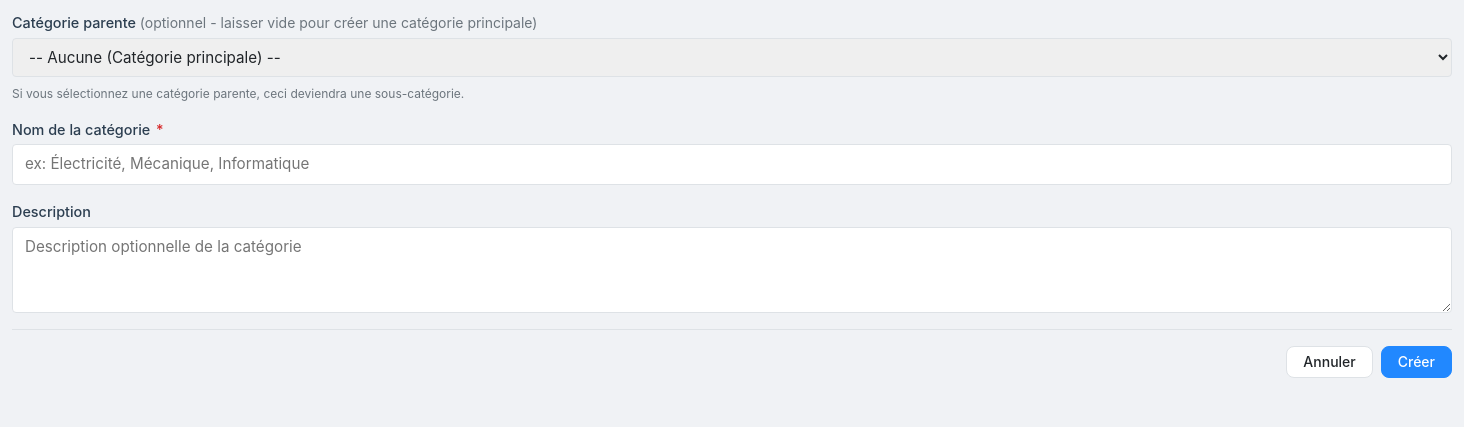
Test case: CategorieForm › efface l'erreur quand on commence à taper
Click the button "Créer" at (1416, 362), box x1=1381 y1=346 x2=1452 y2=378
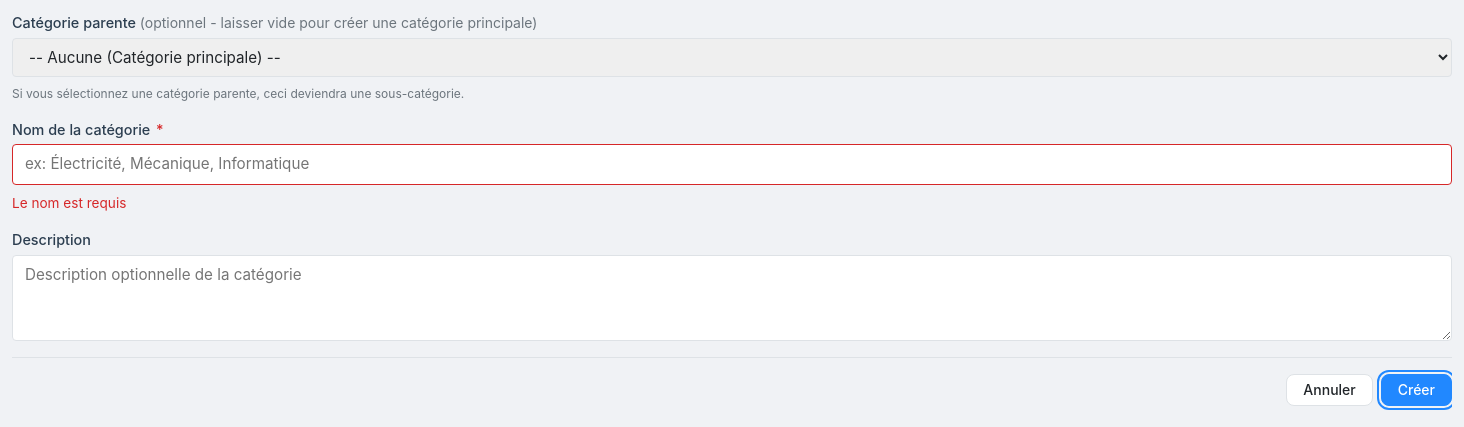
Check: the text "Le nom est requis" is shown, box x1=12 y1=195 x2=126 y2=211
Type "Test" into the field labelled "Nom de la catégorie *" at (732, 165), box x1=12 y1=144 x2=1452 y2=185
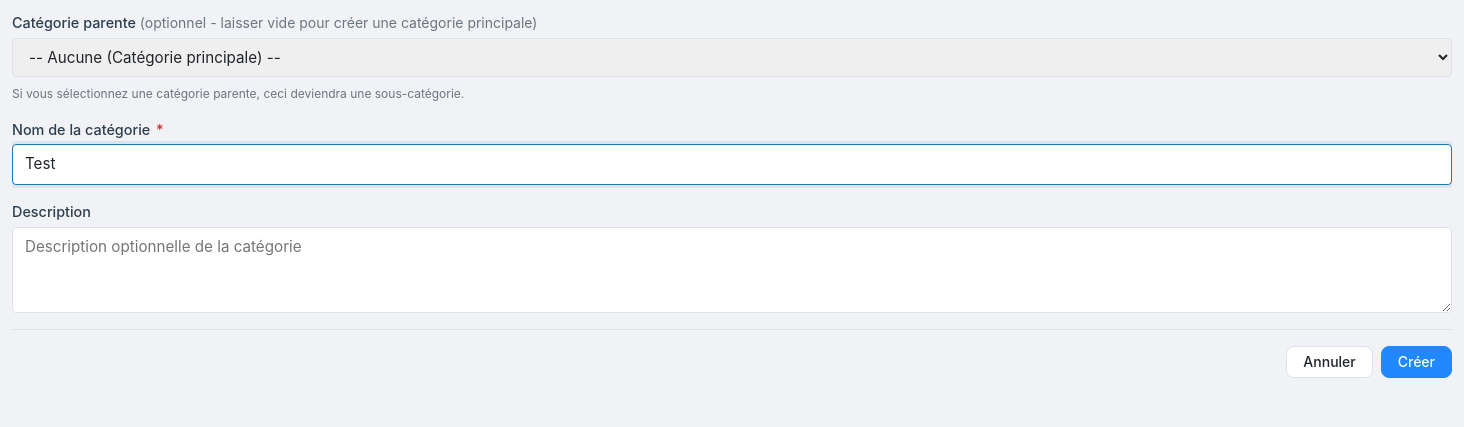
Check: the text "Le nom est requis" is gone
